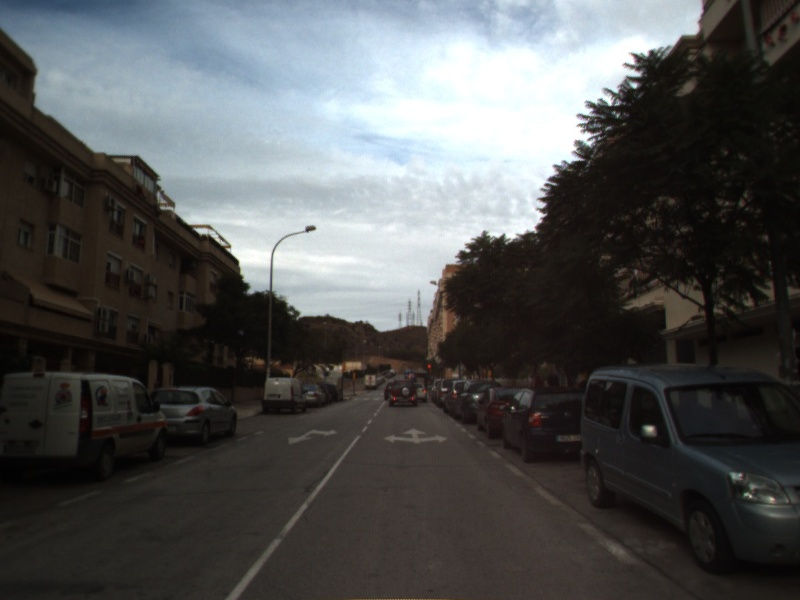STRAIGHT_LEFT_RIGHT: (382, 426, 450, 446)
